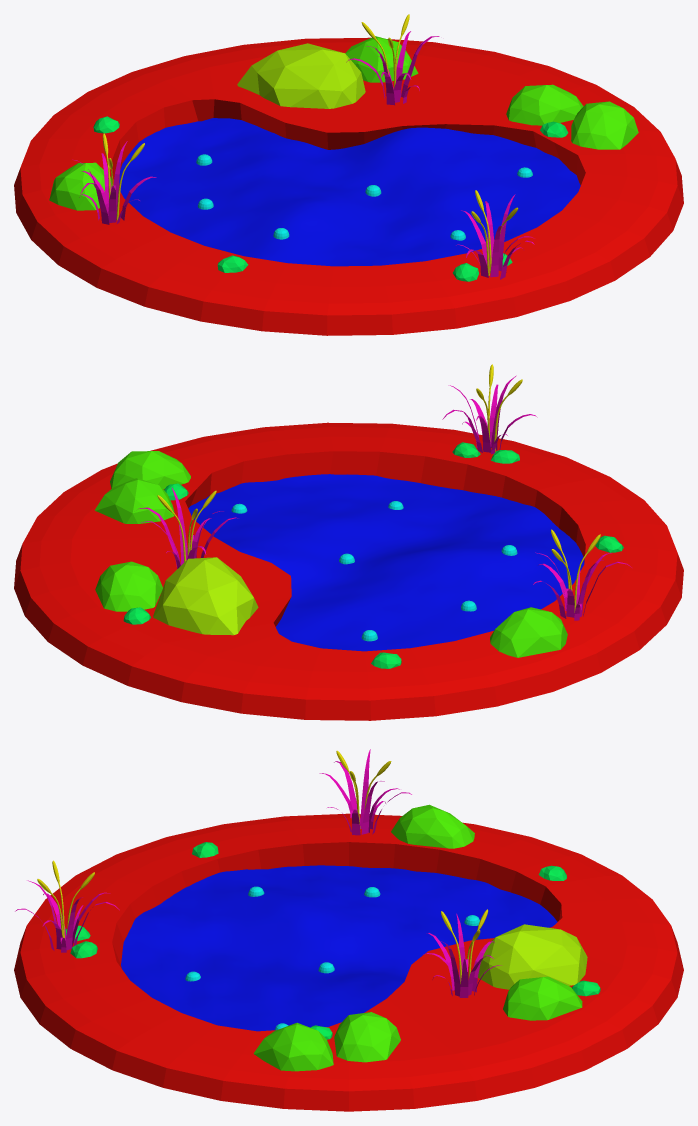
The model's file is swamp_color.fbx.
3 renders of one model, top to bottom at view 1: azimuth 30°, elevation 25°; view 2: azimuth 150°, elevation 25°; view 3: azimuth 270°, elevation 25°, orthographic.
Parts seen in each view (by area): view 1: swamp model; view 2: swamp model; view 3: swamp model.
Boxes of the visible parts, x1=… form: swamp model: x1=14, y1=14, x2=683, y2=335; swamp model: x1=14, y1=364, x2=683, y2=720; swamp model: x1=14, y1=749, x2=683, y2=1111.
Bounding box in the file's own units: 15000 × 2500 × 15000.
